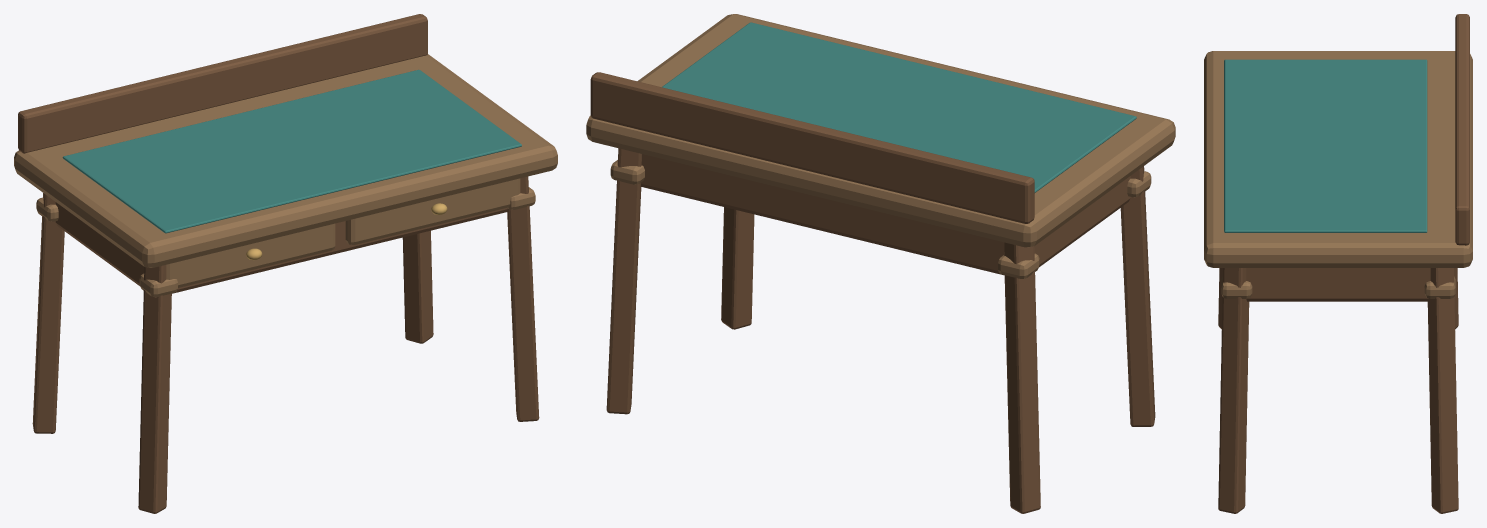
Rendered from writing-desk.glb.
3 views of the same model, side by side, from view 1: azimuth 30°, elevation 25°; view 2: azimuth 150°, elevation 25°; view 3: azimuth 270°, elevation 25° (orthographic). The views are drawn at different scales.
Visible parts, largest first — view 1: writing-desk__Visual_matte; view 2: writing-desk__Visual_matte; view 3: writing-desk__Visual_matte.
Part boxes in pixels (x1,y1,x2,y2): writing-desk__Visual_matte: (14, 14, 557, 513); writing-desk__Visual_matte: (586, 14, 1175, 513); writing-desk__Visual_matte: (1204, 14, 1472, 513).
Bounding box in the file's own units: 1.3 × 0.9409 × 0.74.
